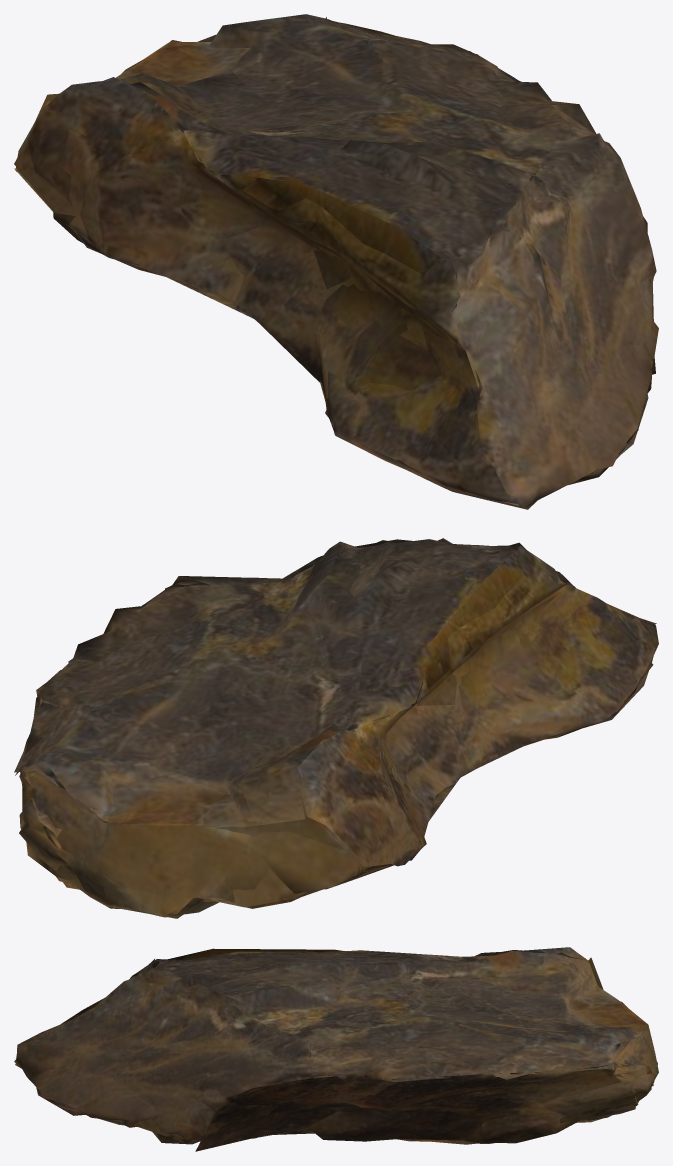
The model's file is rock_09.glb.
The picture shows the model from 3 angles, top to bottom: view 1: azimuth 30°, elevation 25°; view 2: azimuth 150°, elevation 25°; view 3: azimuth 270°, elevation 25°; orthographic projection. The views are drawn at different scales.
Parts seen in each view (by area): view 1: rock_09_v0_near, rock_09_v0_far; view 2: rock_09_v0_near, rock_09_v0_far; view 3: rock_09_v0_near, rock_09_v0_far.
Part boxes in pixels (bbox=[...]): rock_09_v0_near: bbox=[15, 14, 658, 509]; rock_09_v0_far: bbox=[14, 21, 653, 505]; rock_09_v0_near: bbox=[15, 538, 658, 917]; rock_09_v0_far: bbox=[14, 539, 651, 918]; rock_09_v0_near: bbox=[14, 947, 658, 1144]; rock_09_v0_far: bbox=[17, 948, 657, 1151].
Size of the model in its own units: 0.0745 by 0.0334 by 0.1447.
1 material, 1 textured.
